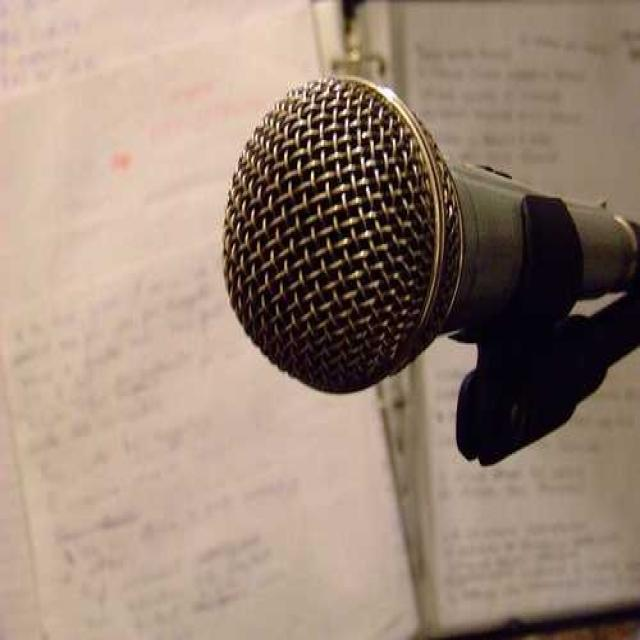microphone: (210, 79, 640, 413)
